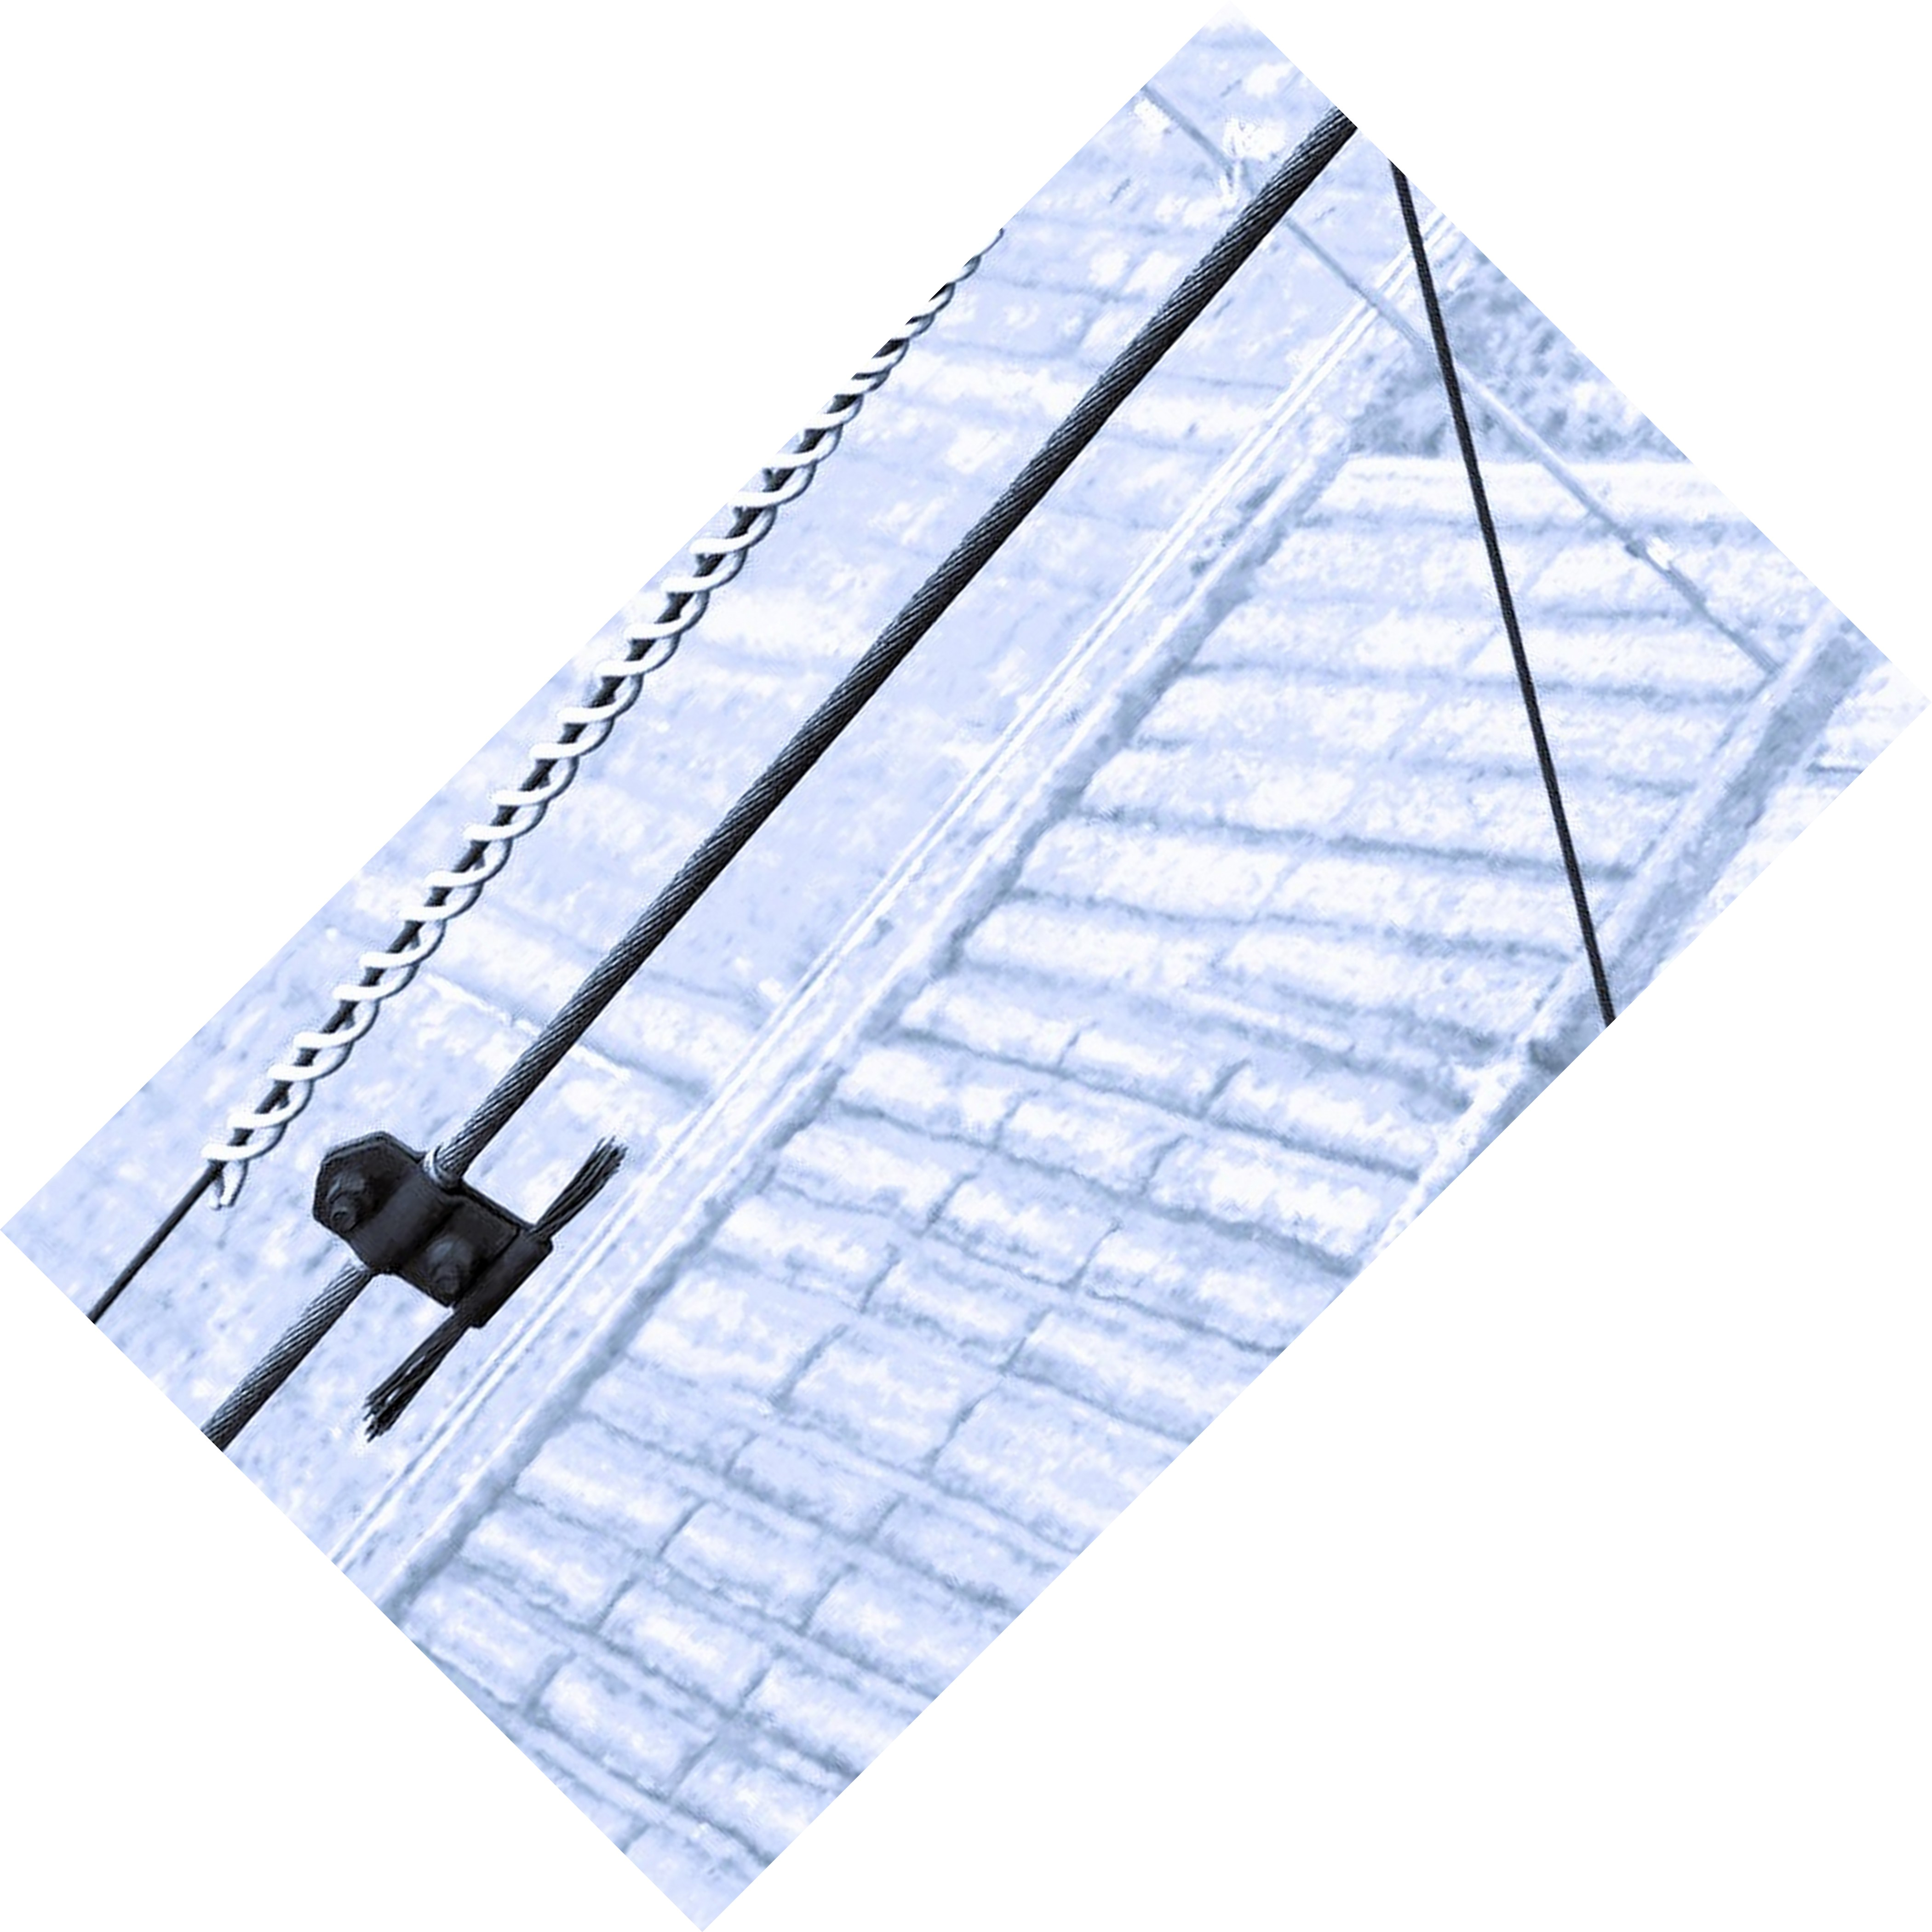Damage of shockproof hammer: (272, 1081, 663, 1490)
